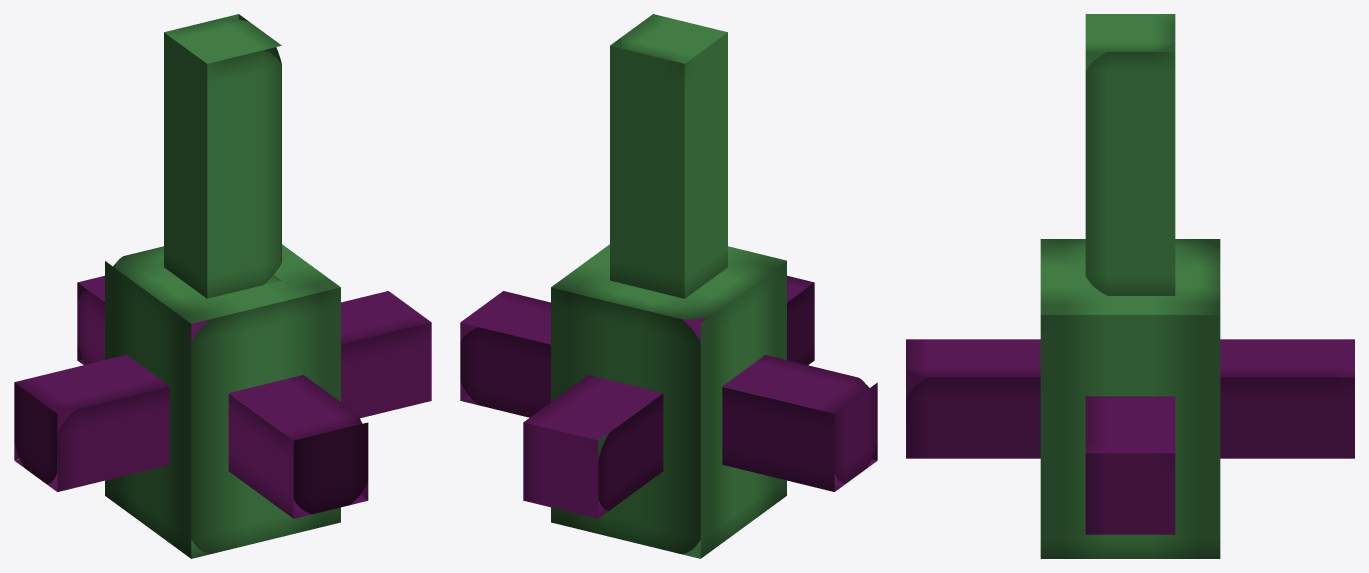
Rendered from missile_head_repulsion.obj.
3 renders of one model, left to right at view 1: azimuth 30°, elevation 25°; view 2: azimuth 150°, elevation 25°; view 3: azimuth 270°, elevation 25°, orthographic. The views are drawn at different scales.
Parts seen in each view (by area): view 1: Component_17, group_25, group_26; view 2: Component_17, group_25, group_26; view 3: Component_17, group_25, group_26.
Part boxes in pixels (left/top/right/bottom): Component_17: left=14, top=275, right=431, bottom=518; group_25: left=105, top=244, right=340, bottom=558; group_26: left=164, top=14, right=281, bottom=298; Component_17: left=460, top=275, right=877, bottom=518; group_25: left=551, top=244, right=786, bottom=558; group_26: left=610, top=14, right=727, bottom=298; Component_17: left=906, top=339, right=1354, bottom=534; group_25: left=1040, top=239, right=1220, bottom=558; group_26: left=1085, top=14, right=1175, bottom=295.
Size of the model in its own units: 62.99 by 75.59 by 62.99.
